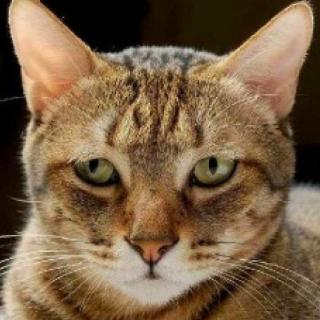cat: (7, 0, 320, 311)
nose: (121, 198, 184, 268)
